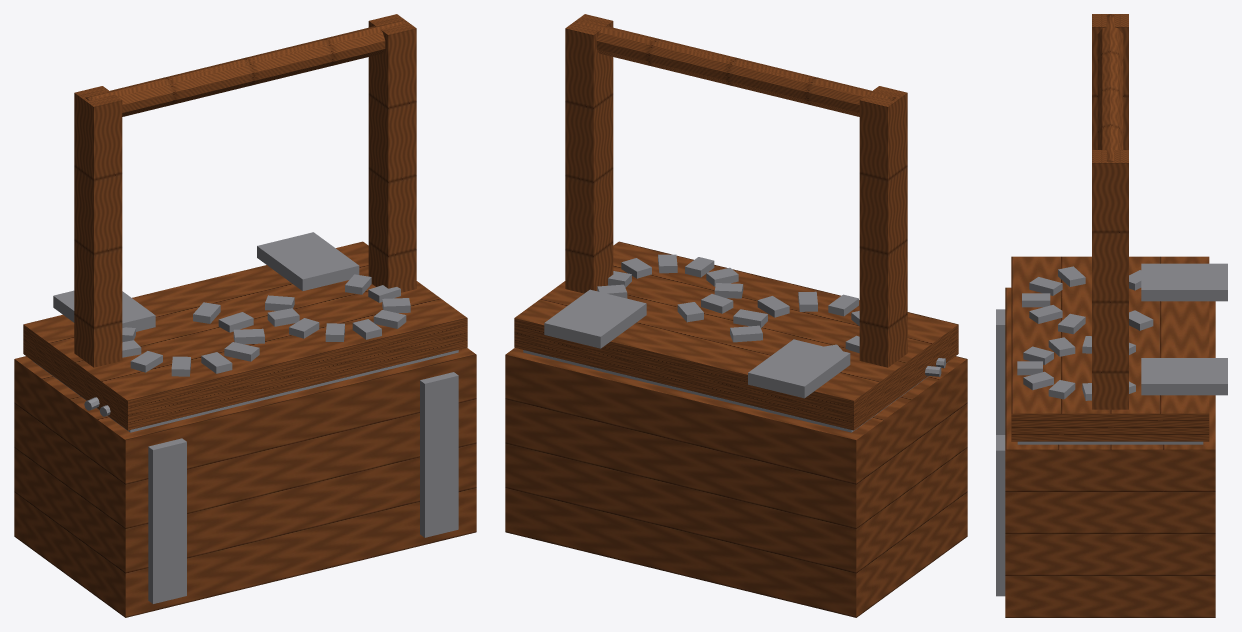
Rendered from blacksmith-forge-and-armoury-blacksmith-forge-and-armo-49e8720f__37590.glb.
3 renders of one model, left to right at view 1: azimuth 30°, elevation 25°; view 2: azimuth 150°, elevation 25°; view 3: azimuth 270°, elevation 25°, orthographic. The views are drawn at different scales.
Parts seen in each view (by area): view 1: blacksmith-forge-and-armoury-shoeing-box-with-horseshoes, lid/timber, lid/iron; view 2: blacksmith-forge-and-armoury-shoeing-box-with-horseshoes, lid/timber, lid/iron; view 3: blacksmith-forge-and-armoury-shoeing-box-with-horseshoes, lid/timber, lid/iron.
Boxes of the visible parts, x1,y1,x2,y2 form: blacksmith-forge-and-armoury-shoeing-box-with-horseshoes: (14,14,476,617); lid/timber: (23,241,467,430); lid/iron: (53,232,410,376); blacksmith-forge-and-armoury-shoeing-box-with-horseshoes: (505,14,967,617); lid/timber: (514,241,958,430); lid/iron: (544,254,859,398); blacksmith-forge-and-armoury-shoeing-box-with-horseshoes: (996,14,1215,617); lid/timber: (1011,256,1209,441); lid/iron: (1017,263,1227,400).
Bounding box in the file's own units: 0.6315 × 0.802 × 0.375.
Materials: 2 (1 with a texture image).
